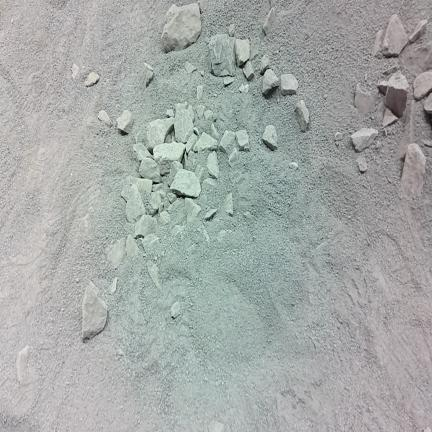Rock: (162, 3, 201, 52), (82, 282, 107, 340), (401, 144, 425, 197), (209, 35, 235, 76), (382, 14, 407, 56), (397, 101, 415, 158), (386, 71, 408, 117), (154, 143, 185, 175), (147, 117, 174, 152), (404, 42, 431, 71), (171, 170, 200, 197), (126, 184, 146, 222), (174, 110, 193, 143), (106, 238, 126, 269), (355, 84, 375, 115), (351, 128, 377, 151), (139, 158, 160, 183), (135, 215, 157, 238), (414, 71, 431, 100), (16, 346, 29, 382), (194, 133, 218, 151), (263, 69, 280, 94), (296, 100, 309, 132), (409, 20, 427, 42), (206, 151, 220, 179), (139, 63, 154, 89), (147, 261, 161, 288), (280, 74, 298, 95), (117, 110, 133, 133), (185, 198, 201, 221), (133, 143, 152, 162), (219, 131, 235, 153), (236, 39, 249, 66), (263, 125, 277, 150), (168, 161, 182, 186), (263, 8, 275, 35), (121, 176, 134, 200), (142, 234, 159, 252), (134, 178, 152, 195), (148, 192, 161, 215), (235, 130, 249, 151), (383, 108, 397, 127), (373, 30, 383, 56), (222, 193, 233, 216), (126, 235, 138, 256), (250, 37, 260, 61), (98, 110, 112, 127), (259, 54, 270, 75), (79, 213, 90, 234), (243, 60, 254, 81), (186, 134, 197, 153), (159, 197, 170, 215), (85, 72, 99, 86), (159, 211, 171, 226), (376, 101, 385, 121), (208, 420, 224, 431), (229, 147, 238, 166), (202, 178, 216, 190), (357, 156, 367, 172), (204, 208, 217, 220), (109, 277, 118, 294), (195, 165, 204, 182), (171, 302, 180, 318), (383, 65, 397, 75), (424, 94, 431, 113), (378, 81, 388, 94), (211, 123, 219, 139), (183, 154, 191, 170), (196, 105, 205, 119), (185, 62, 196, 73), (172, 225, 183, 236), (175, 102, 187, 112), (188, 106, 195, 122), (244, 211, 253, 223), (72, 64, 79, 79), (198, 0, 206, 13), (200, 195, 207, 209), (188, 106, 194, 122), (204, 110, 213, 120), (224, 77, 234, 86), (197, 85, 203, 100), (167, 193, 176, 203), (152, 184, 163, 192), (166, 109, 175, 118), (239, 84, 248, 93), (289, 162, 298, 170), (229, 24, 235, 36), (165, 134, 172, 144), (335, 132, 342, 141), (422, 140, 431, 147), (118, 348, 124, 356), (199, 70, 204, 76), (424, 427, 431, 431)
